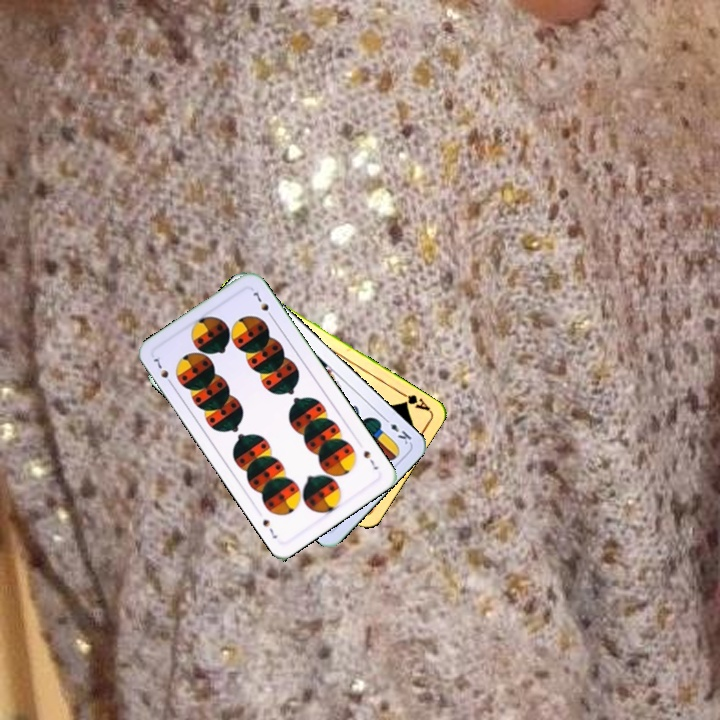EK: (379, 413, 414, 447)
GA: (395, 387, 432, 413)
S7: (149, 354, 176, 389), (359, 446, 381, 472)
